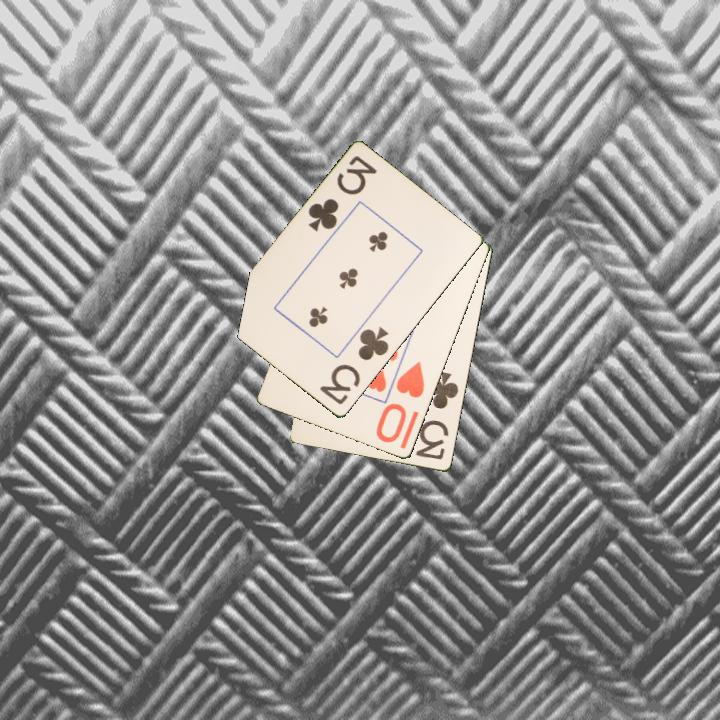10h: (373, 358, 428, 446)
3c: (316, 323, 392, 408), (304, 152, 380, 235), (412, 368, 462, 463)
